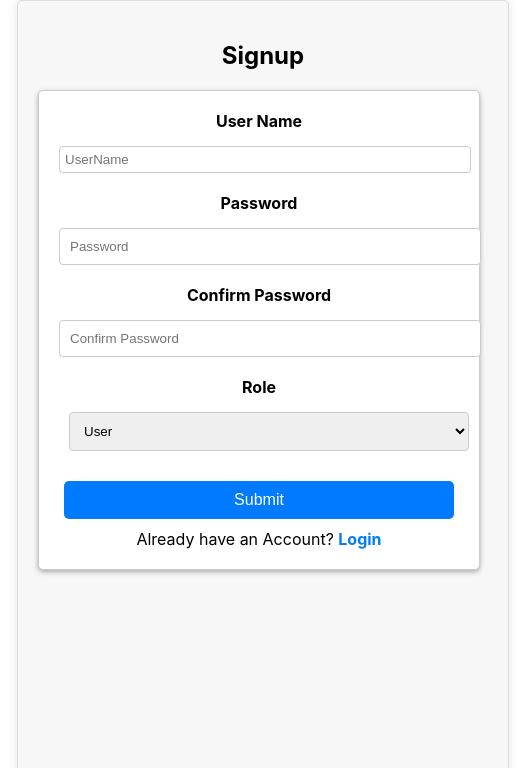
Test case: signup_component › signup_should_validate_password_length_when_entering_a_password
Type "123" into the password field with placeholder "Password" at (270,246), box [59,228,481,265]
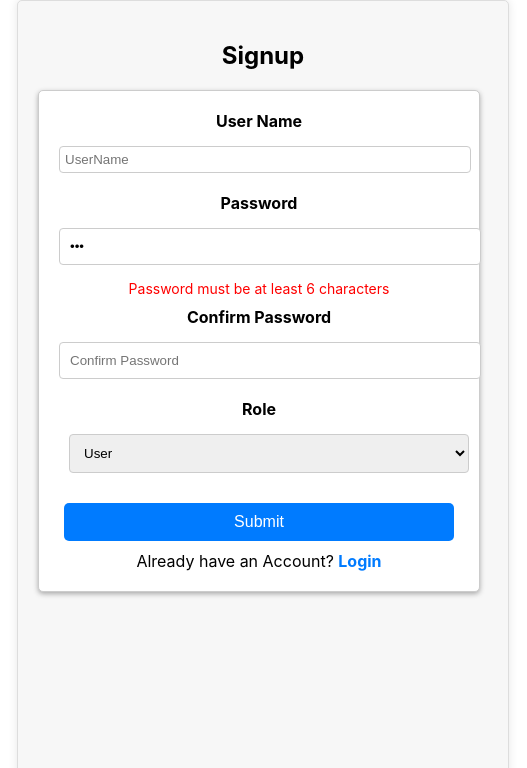
Check: the text "Password must be at least 6 characters" is shown, box [129,280,389,297]
